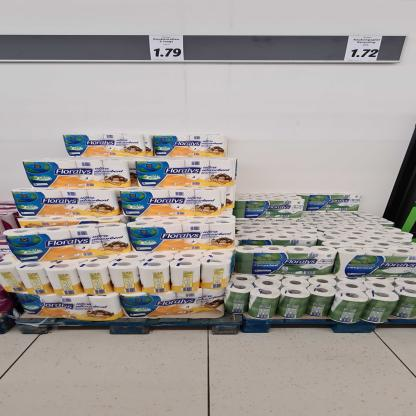prtg: (345, 37, 383, 61), (150, 36, 185, 61)
